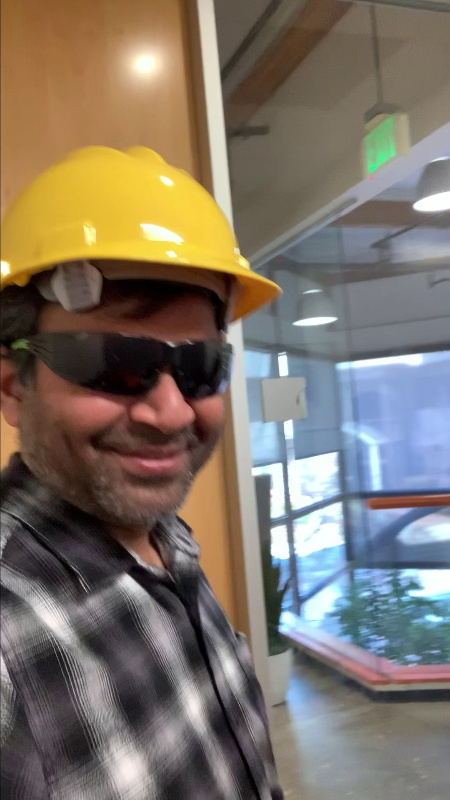glasses: (38, 328, 232, 399)
helmet: (12, 144, 236, 266)
